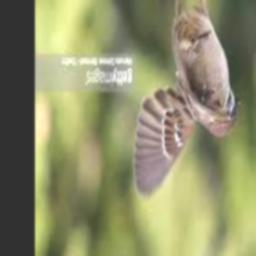Sparrow: (134, 0, 244, 201)
